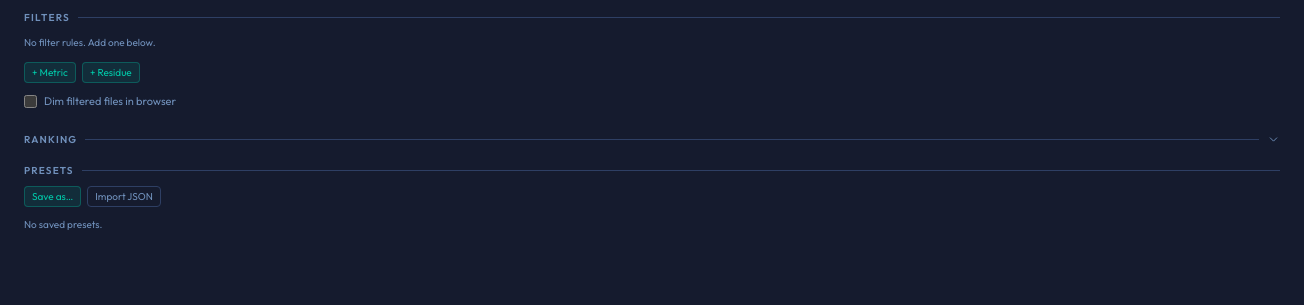
Test: FilterPanel › shows "Calculate or import metrics first" when no ranking metrics available
The image size is (1304, 305).
# Ranking section starts collapsed — open it first
Click the button "Ranking". click: x=51, y=139
box: x1=12 y1=122 x2=1292 y2=152
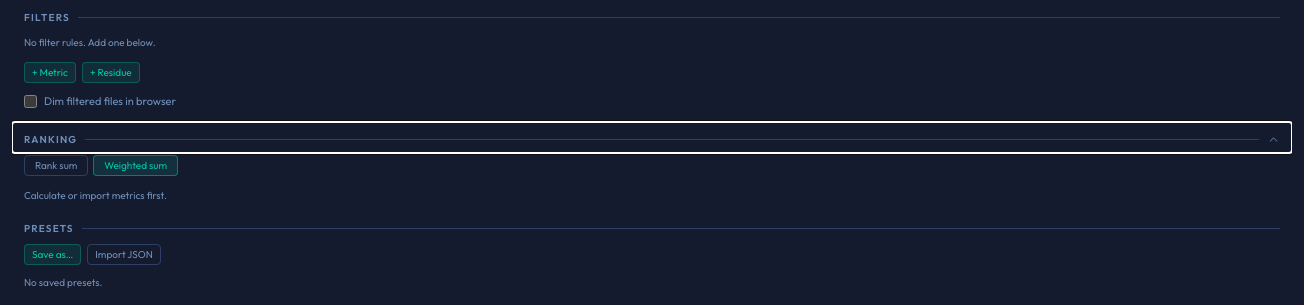
Expected: the text "Calculate or import metrics first." is shown, x1=24 y1=188 x2=167 y2=202
